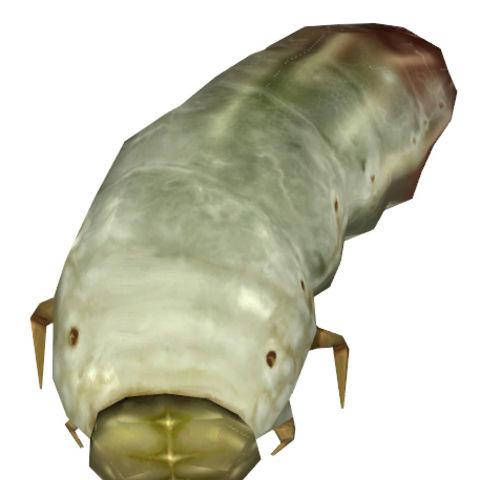grub: (24, 15, 460, 480)
